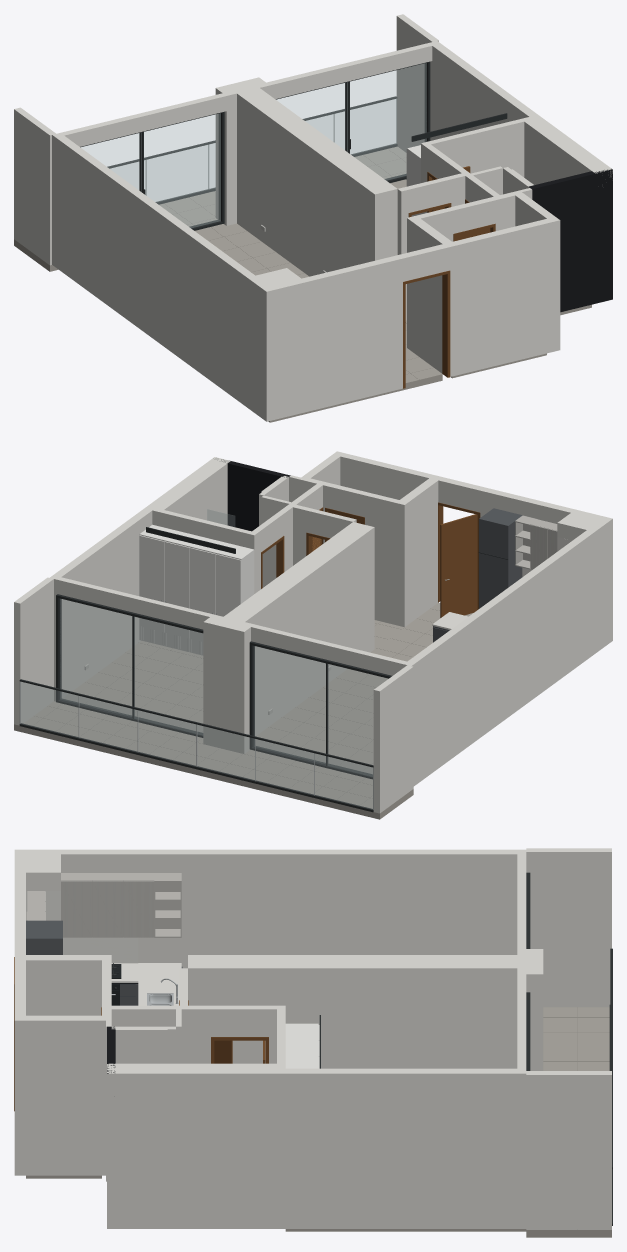
Rendered from apartment-existing.glb.
The picture shows the model from 3 angles, top to bottom: view 1: azimuth 30°, elevation 25°; view 2: azimuth 150°, elevation 25°; view 3: azimuth 270°, elevation 25°; orthographic projection. The views are drawn at different scales.
Visible parts, largest first — view 1: Left perimeter, Central structural divider | thickness inferred, Living south wall left of entry, Powder south wall, Shower rear, Terrace Living glass pane 2, Terrace Bedroom glass pane 2, Balcony clear balustrade estimated 1.10m, Right bedroom perimeter, Balcony left end, Powder left wall, Living kitchen | clear 4.17 x 8.77 (+24 smaller); view 2: Left perimeter, Central structural divider | thickness inferred, Balcony clear balustrade estimated 1.10m, Balcony | 9.40 x 1.50, Right bedroom perimeter, Living kitchen | clear 4.17 x 8.77, Bedroom | glazing to closed wardrobe 3.62, Terrace Bedroom glass pane 2, Terrace Living glass pane 2, Terrace Bedroom glass pane 1, Terrace central structural column, Balcony left end (+39 smaller); view 3: Left perimeter, Right bedroom perimeter, Central structural divider | thickness inferred, Ensuite right structural return, Balcony right end, Balcony left end, Powder right wall, Balcony | 9.40 x 1.50, Powder left wall, Powder south wall, Terrace central structural column, Wardrobe back / ensuite division (+21 smaller).
Boxes of the visible parts, left/top/right/bottom form: Left perimeter: left=52, top=133, right=274, bottom=421; Central structural divider | thickness inferred: left=233, top=85, right=397, bottom=276; Living south wall left of entry: left=270, top=254, right=405, bottom=419; Powder south wall: left=443, top=216, right=560, bottom=375; Shower rear: left=528, top=168, right=612, bottom=312; Terrace Living glass pane 2: left=141, top=113, right=220, bottom=227; Terrace Bedroom glass pane 2: left=347, top=63, right=426, bottom=180; Balcony clear balustrade estimated 1.10m: left=111, top=99, right=396, bottom=201; Right bedroom perimeter: left=429, top=41, right=537, bottom=140; Balcony left end: left=14, top=107, right=55, bottom=265; Powder left wall: left=407, top=215, right=451, bottom=373; Living kitchen | clear 4.17 x 8.77: left=195, top=223, right=442, bottom=422; Left perimeter: left=403, top=516, right=612, bottom=786; Central structural divider | thickness inferred: left=220, top=522, right=374, bottom=736; Balcony clear balustrade estimated 1.10m: left=20, top=682, right=372, bottom=809; Balcony | 9.40 x 1.50: left=14, top=701, right=413, bottom=819; Right bedroom perimeter: left=50, top=508, right=152, bottom=701; Living kitchen | clear 4.17 x 8.77: left=256, top=602, right=472, bottom=773; Bedroom | glazing to closed wardrobe 3.62: left=63, top=643, right=203, bottom=732; Terrace Bedroom glass pane 2: left=60, top=599, right=131, bottom=716; Terrace Living glass pane 2: left=254, top=646, right=325, bottom=763; Terrace Bedroom glass pane 1: left=134, top=617, right=202, bottom=734; Terrace central structural column: left=203, top=614, right=254, bottom=753; Balcony left end: left=373, top=665, right=413, bottom=813; Left perimeter: left=14, top=849, right=526, bottom=968; Right bedroom perimeter: left=285, top=1068, right=526, bottom=1228; Central structural divider | thickness inferred: left=188, top=955, right=526, bottom=1068; Ensuite right structural return: left=107, top=1063, right=276, bottom=1228; Balcony right end: left=526, top=1071, right=611, bottom=1229; Balcony left end: left=526, top=848, right=611, bottom=1007; Powder right wall: left=26, top=1015, right=109, bottom=1175; Balcony | 9.40 x 1.50: left=526, top=1007, right=611, bottom=1237; Powder left wall: left=26, top=955, right=101, bottom=1015; Powder south wall: left=14, top=955, right=25, bottom=1175; Terrace central structural column: left=517, top=949, right=543, bottom=1070; Wardrobe back / ensuite division: left=277, top=1005, right=285, bottom=1228.
Bounding box in the file's own units: 9.4 × 3.15 × 10.5.
Materials: 21 (2 with a texture image).
